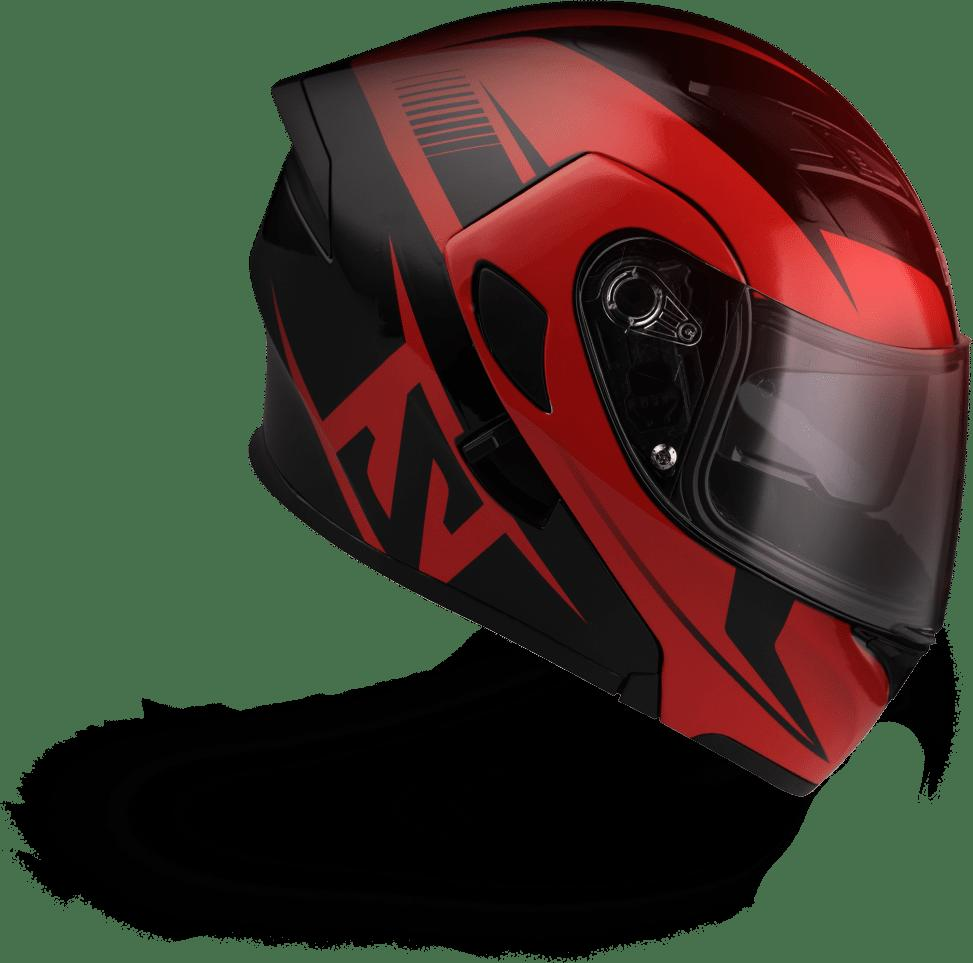Helmet: (246, 2, 972, 814)
